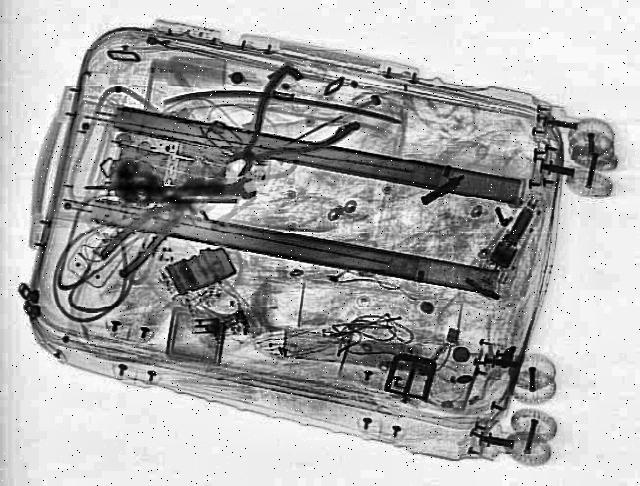Pliers: (183, 62, 374, 200), (88, 169, 225, 279)
